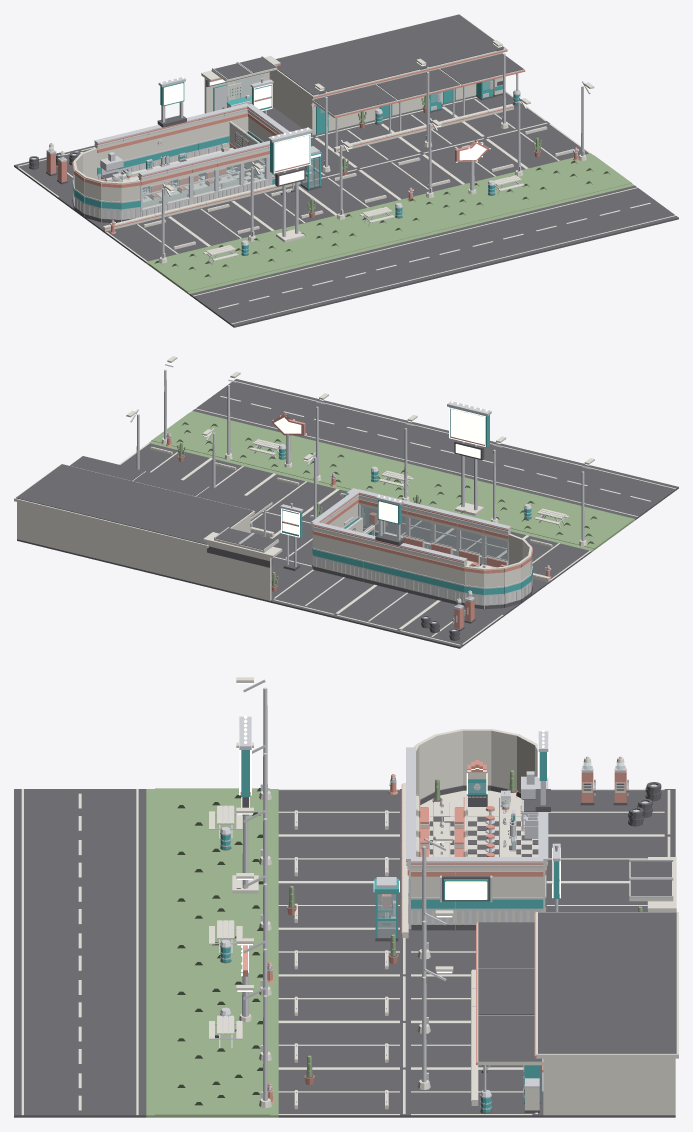
The model's file is roadside-motel.glb.
The picture shows the model from 3 angles, top to bottom: view 1: azimuth 30°, elevation 25°; view 2: azimuth 150°, elevation 25°; view 3: azimuth 270°, elevation 25°; orthographic projection. The views are drawn at different scales.
Parts seen in each view (by area): view 1: 123-motel-room-block-wide/motel-room-block-wide-asphalt, 123-motel-room-block-wide/motel-room-block-wide-cream, 124-motel-room-block-narrow/motel-room-block-narrow-asphalt, 021-road-module-centre-line/road-module-centre-line-asphalt, 025-road-module-centre-line/road-module-centre-line-asphalt, 022-road-module-centre-line/road-module-centre-line-asphalt, 024-road-module-centre-line/road-module-centre-line-asphalt, 027-road-module-centre-line/road-module-centre-line-asphalt, 023-road-module-centre-line/road-module-centre-line-asphalt, 026-road-module-centre-line/road-module-centre-line-asphalt, 014-verge-module/verge-module-sage, 020-verge-module/verge-module-sage (+31 smaller); view 2: 123-motel-room-block-wide/motel-room-block-wide-asphalt, 123-motel-room-block-wide/motel-room-block-wide-cream, 124-motel-room-block-narrow/motel-room-block-narrow-asphalt, 145-motel-office-front/motel-office-front-cream, 021-road-module-centre-line/road-module-centre-line-asphalt, 124-motel-room-block-narrow/motel-room-block-narrow-cream, 025-road-module-centre-line/road-module-centre-line-asphalt, 022-road-module-centre-line/road-module-centre-line-asphalt, 027-road-module-centre-line/road-module-centre-line-asphalt, 014-verge-module/verge-module-sage, 001-car-park-bay-module/car-park-bay-module-asphalt, 002-car-park-bay-module/car-park-bay-module-asphalt (+35 smaller); view 3: 123-motel-room-block-wide/motel-room-block-wide-asphalt, 124-motel-room-block-narrow/motel-room-block-narrow-cream, 124-motel-room-block-narrow/motel-room-block-narrow-asphalt, 046-diner-car-curved-end/diner-car-curved-end-cream, 027-road-module-centre-line/road-module-centre-line-asphalt, 020-verge-module/verge-module-sage, 022-road-module-centre-line/road-module-centre-line-asphalt, 021-road-module-centre-line/road-module-centre-line-asphalt, 024-road-module-centre-line/road-module-centre-line-asphalt, 026-road-module-centre-line/road-module-centre-line-asphalt, 023-road-module-centre-line/road-module-centre-line-asphalt, 025-road-module-centre-line/road-module-centre-line-asphalt (+39 smaller).
Boxes of the visible parts, bbox=[...] form: 123-motel-room-block-wide/motel-room-block-wide-asphalt: bbox=[276, 30, 440, 95]; 123-motel-room-block-wide/motel-room-block-wide-cream: bbox=[269, 29, 443, 135]; 124-motel-room-block-narrow/motel-room-block-narrow-asphalt: bbox=[394, 14, 505, 64]; 021-road-module-centre-line/road-module-centre-line-asphalt: bbox=[190, 278, 297, 327]; 025-road-module-centre-line/road-module-centre-line-asphalt: bbox=[444, 216, 551, 265]; 022-road-module-centre-line/road-module-centre-line-asphalt: bbox=[254, 263, 361, 312]; 024-road-module-centre-line/road-module-centre-line-asphalt: bbox=[381, 232, 488, 281]; 027-road-module-centre-line/road-module-centre-line-asphalt: bbox=[572, 185, 678, 234]; 023-road-module-centre-line/road-module-centre-line-asphalt: bbox=[317, 247, 424, 296]; 026-road-module-centre-line/road-module-centre-line-asphalt: bbox=[508, 201, 615, 250]; 014-verge-module/verge-module-sage: bbox=[146, 246, 253, 295]; 020-verge-module/verge-module-sage: bbox=[527, 153, 634, 200]; 123-motel-room-block-wide/motel-room-block-wide-asphalt: bbox=[80, 480, 252, 586]; 123-motel-room-block-wide/motel-room-block-wide-cream: bbox=[77, 479, 254, 585]; 124-motel-room-block-narrow/motel-room-block-narrow-asphalt: bbox=[16, 464, 126, 555]; 145-motel-office-front/motel-office-front-cream: bbox=[203, 532, 282, 600]; 021-road-module-centre-line/road-module-centre-line-asphalt: bbox=[572, 471, 678, 519]; 124-motel-room-block-narrow/motel-room-block-narrow-cream: bbox=[14, 464, 124, 554]; 025-road-module-centre-line/road-module-centre-line-asphalt: bbox=[319, 409, 425, 456]; 022-road-module-centre-line/road-module-centre-line-asphalt: bbox=[509, 456, 615, 503]; 027-road-module-centre-line/road-module-centre-line-asphalt: bbox=[192, 379, 298, 426]; 014-verge-module/verge-module-sage: bbox=[528, 503, 635, 552]; 001-car-park-bay-module/car-park-bay-module-asphalt: bbox=[333, 585, 437, 633]; 002-car-park-bay-module/car-park-bay-module-asphalt: bbox=[270, 570, 373, 617]; 123-motel-room-block-wide/motel-room-block-wide-asphalt: bbox=[538, 912, 676, 1005]; 124-motel-room-block-narrow/motel-room-block-narrow-cream: bbox=[535, 1008, 678, 1115]; 124-motel-room-block-narrow/motel-room-block-narrow-asphalt: bbox=[538, 1005, 676, 1117]; 046-diner-car-curved-end/diner-car-curved-end-cream: bbox=[414, 729, 537, 816]; 027-road-module-centre-line/road-module-centre-line-asphalt: bbox=[14, 1068, 146, 1117]; 020-verge-module/verge-module-sage: bbox=[146, 1067, 278, 1117]; 022-road-module-centre-line/road-module-centre-line-asphalt: bbox=[14, 835, 146, 882]; 021-road-module-centre-line/road-module-centre-line-asphalt: bbox=[14, 789, 146, 835]; 024-road-module-centre-line/road-module-centre-line-asphalt: bbox=[14, 929, 146, 975]; 026-road-module-centre-line/road-module-centre-line-asphalt: bbox=[14, 1022, 146, 1068]; 023-road-module-centre-line/road-module-centre-line-asphalt: bbox=[14, 882, 146, 928]; 025-road-module-centre-line/road-module-centre-line-asphalt: bbox=[14, 975, 146, 1021].
Bounding box in the file's own units: 35.23 × 8.06 × 30.15.
